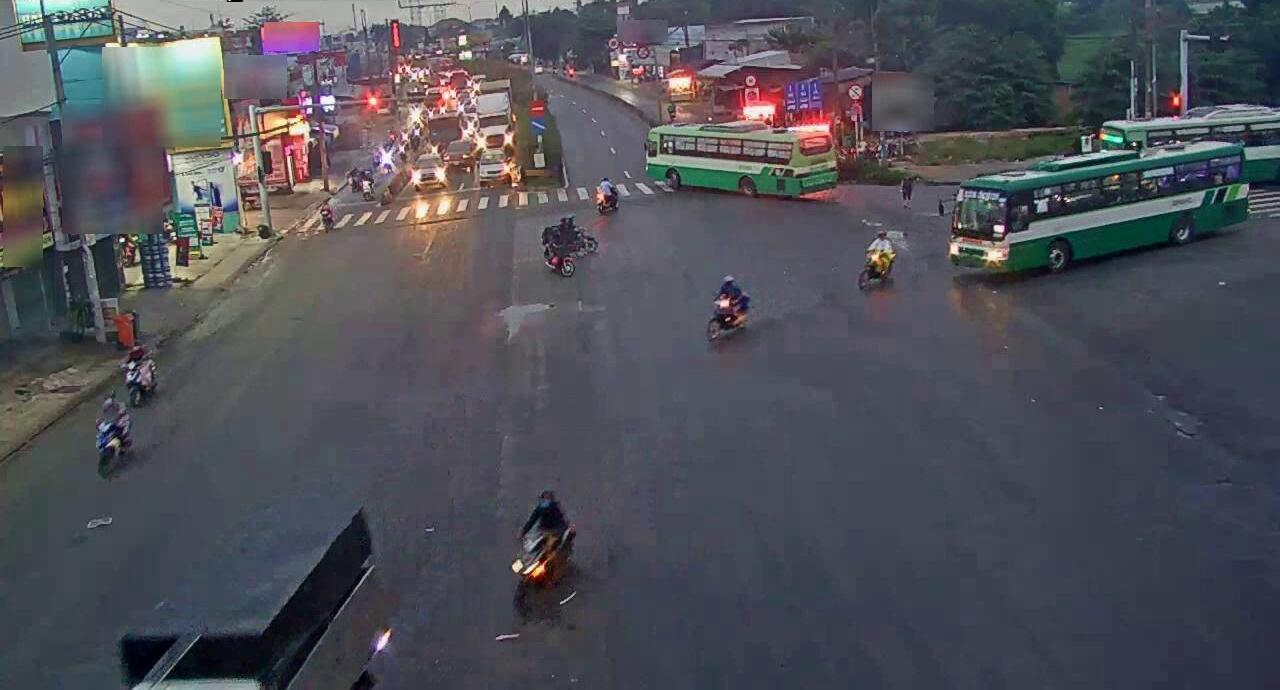xe buyt: (640, 125, 845, 204)
xe may: (512, 488, 574, 618), (93, 389, 133, 475), (710, 272, 752, 338), (854, 231, 895, 292), (595, 172, 619, 213)
xe tai: (109, 517, 391, 690)
